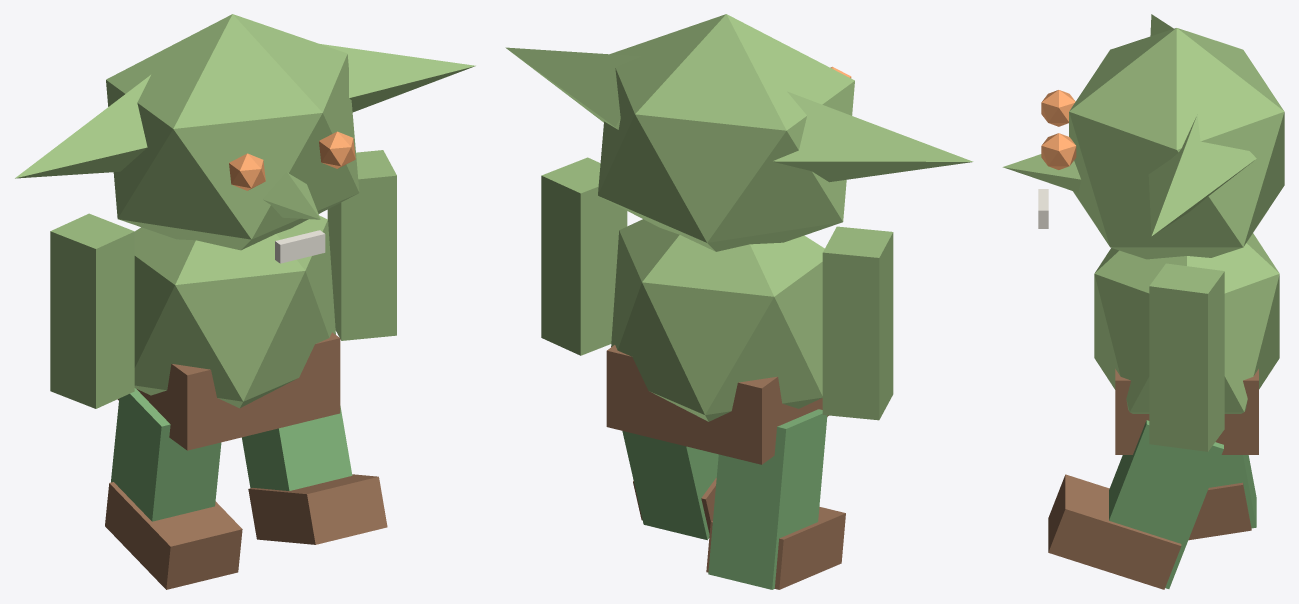
The model's file is npcpose_goblin_walk_05.glb.
3 renders of one model, left to right at view 1: azimuth 30°, elevation 25°; view 2: azimuth 150°, elevation 25°; view 3: azimuth 270°, elevation 25°, orthographic. The views are drawn at different scales.
Visible parts, largest first — view 1: npcpose; view 2: npcpose; view 3: npcpose.
Part boxes in pixels (x1,y1,x2,y2): npcpose: (15,14,475,589); npcpose: (505,14,973,589); npcpose: (1002,14,1284,589).
Size of the model in its own units: 1.03 by 1.14 by 0.5501.
